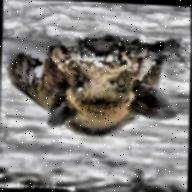boar: (3, 23, 182, 139)
